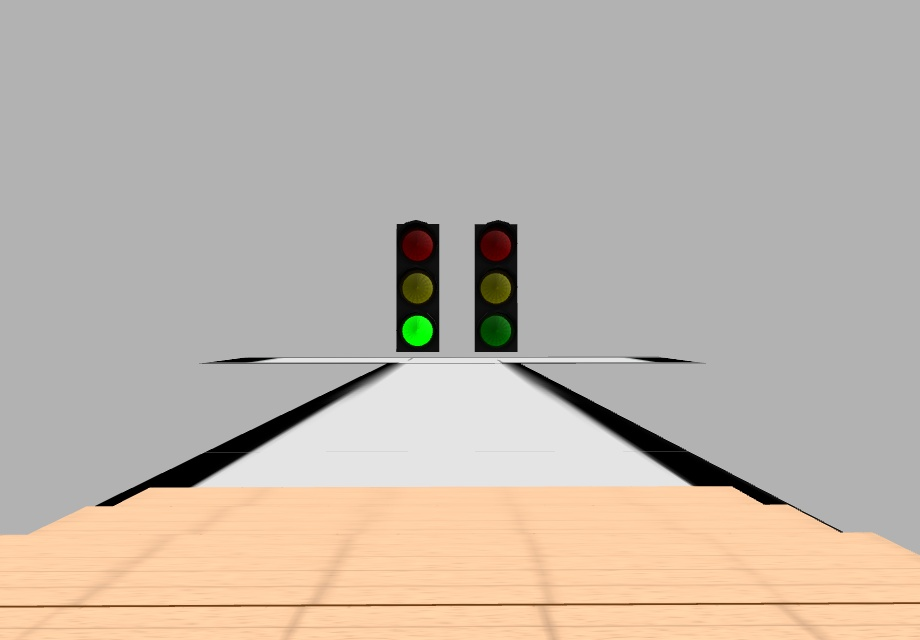green_off: (479, 311, 515, 347)
green_on: (401, 311, 437, 347)
